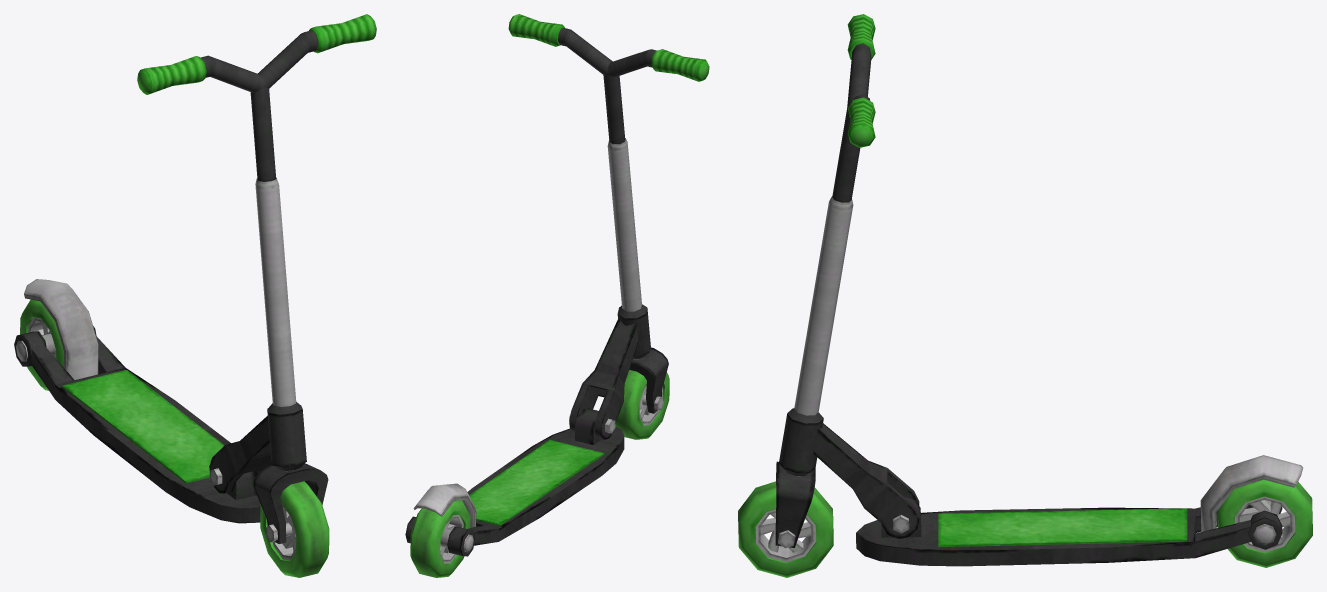
The model's file is Ben Tennyson.obj.
3 views of the same model, side by side, from view 1: azimuth 30°, elevation 25°; view 2: azimuth 150°, elevation 25°; view 3: azimuth 270°, elevation 25° (orthographic). The views are drawn at different scales.
Parts seen in each view (by area): view 1: ScootMcGoot_Jr_ScootMcGoot_Jr.001, Handles_Handles.001, HandleJoints_HandleJoints.001, FrontWheel_FrontWheel.001, BackWheel_BackWheel.001; view 2: ScootMcGoot_Jr_ScootMcGoot_Jr.001, Handles_Handles.001, HandleJoints_HandleJoints.001, BackWheel_BackWheel.001, FrontWheel_FrontWheel.001; view 3: ScootMcGoot_Jr_ScootMcGoot_Jr.001, Handles_Handles.001, HandleJoints_HandleJoints.001, FrontWheel_FrontWheel.001, BackWheel_BackWheel.001.
Part boxes in pixels (x1,y1,x2,y2): ScootMcGoot_Jr_ScootMcGoot_Jr.001: [14, 279, 260, 523]; Handles_Handles.001: [137, 14, 376, 543]; HandleJoints_HandleJoints.001: [209, 402, 306, 493]; FrontWheel_FrontWheel.001: [260, 481, 329, 577]; BackWheel_BackWheel.001: [20, 299, 63, 390]; ScootMcGoot_Jr_ScootMcGoot_Jr.001: [405, 408, 624, 556]; Handles_Handles.001: [508, 14, 709, 413]; HandleJoints_HandleJoints.001: [569, 304, 650, 439]; BackWheel_BackWheel.001: [410, 500, 470, 577]; FrontWheel_FrontWheel.001: [615, 370, 669, 439]; ScootMcGoot_Jr_ScootMcGoot_Jr.001: [856, 455, 1303, 566]; Handles_Handles.001: [775, 14, 875, 548]; HandleJoints_HandleJoints.001: [779, 408, 919, 538]; FrontWheel_FrontWheel.001: [738, 481, 833, 577]; BackWheel_BackWheel.001: [1217, 479, 1312, 567].
Size of the model in its own units: 0.3971 by 0.8255 by 0.8512.
